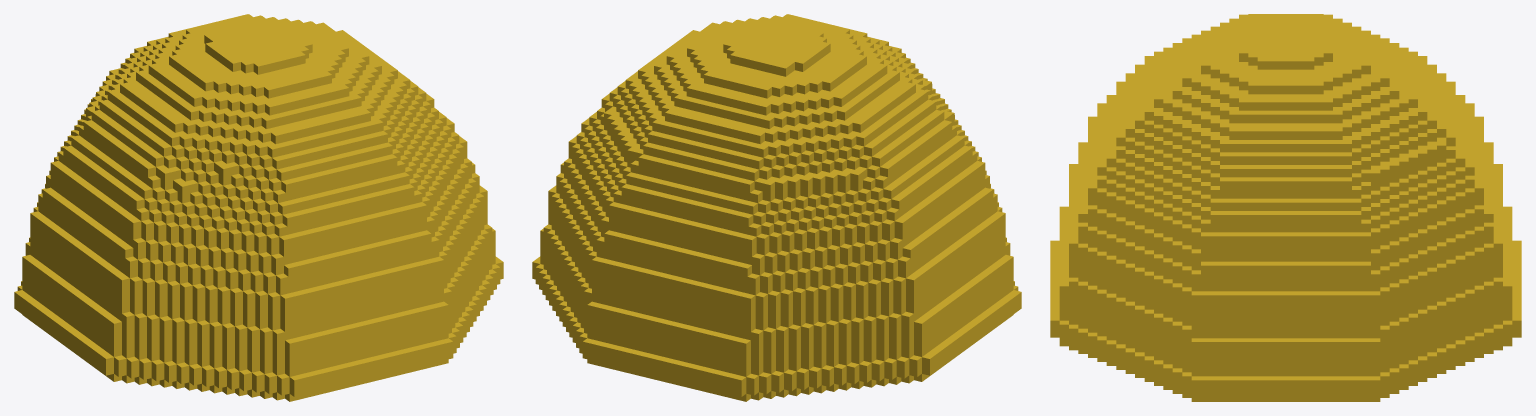
File: swim_cap.glb
The picture shows the model from 3 angles, left to right: view 1: azimuth 30°, elevation 25°; view 2: azimuth 150°, elevation 25°; view 3: azimuth 270°, elevation 25°; orthographic projection. The views are drawn at different scales.
Visible parts, largest first — view 1: swim_cap:compound; view 2: swim_cap:compound; view 3: swim_cap:compound.
Boxes of the visible parts, x1,y1,x2,y2 form: swim_cap:compound: (14, 14, 503, 401); swim_cap:compound: (532, 14, 1021, 401); swim_cap:compound: (1050, 14, 1521, 401).
Size of the model in its own units: 0.2 by 0.124 by 0.2.
